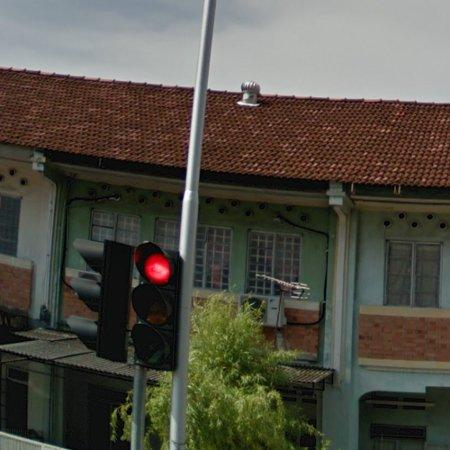traffic lights: (132, 243, 180, 370)
